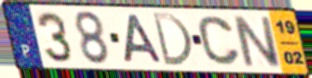3: (35, 10, 74, 64)
8: (72, 10, 112, 66)
A: (121, 13, 166, 66)
C: (196, 14, 242, 68)
D: (150, 11, 195, 68)
N: (230, 14, 284, 69)
